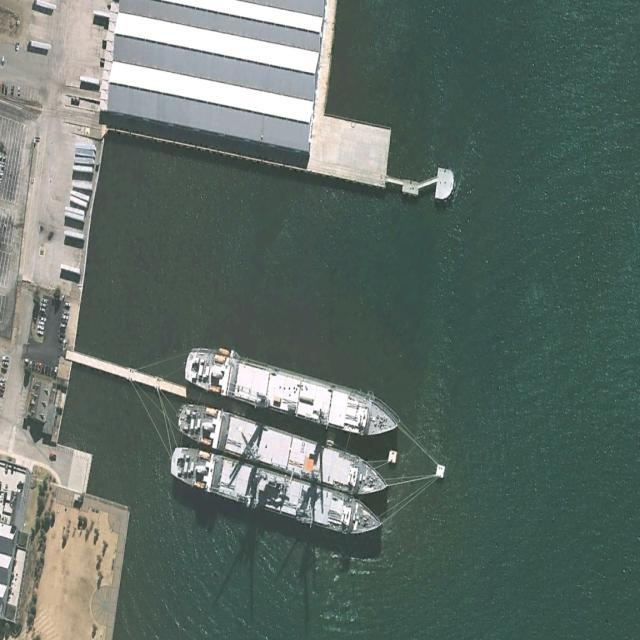Cargo: (173, 395, 392, 506), (167, 441, 384, 547), (183, 342, 401, 442)
